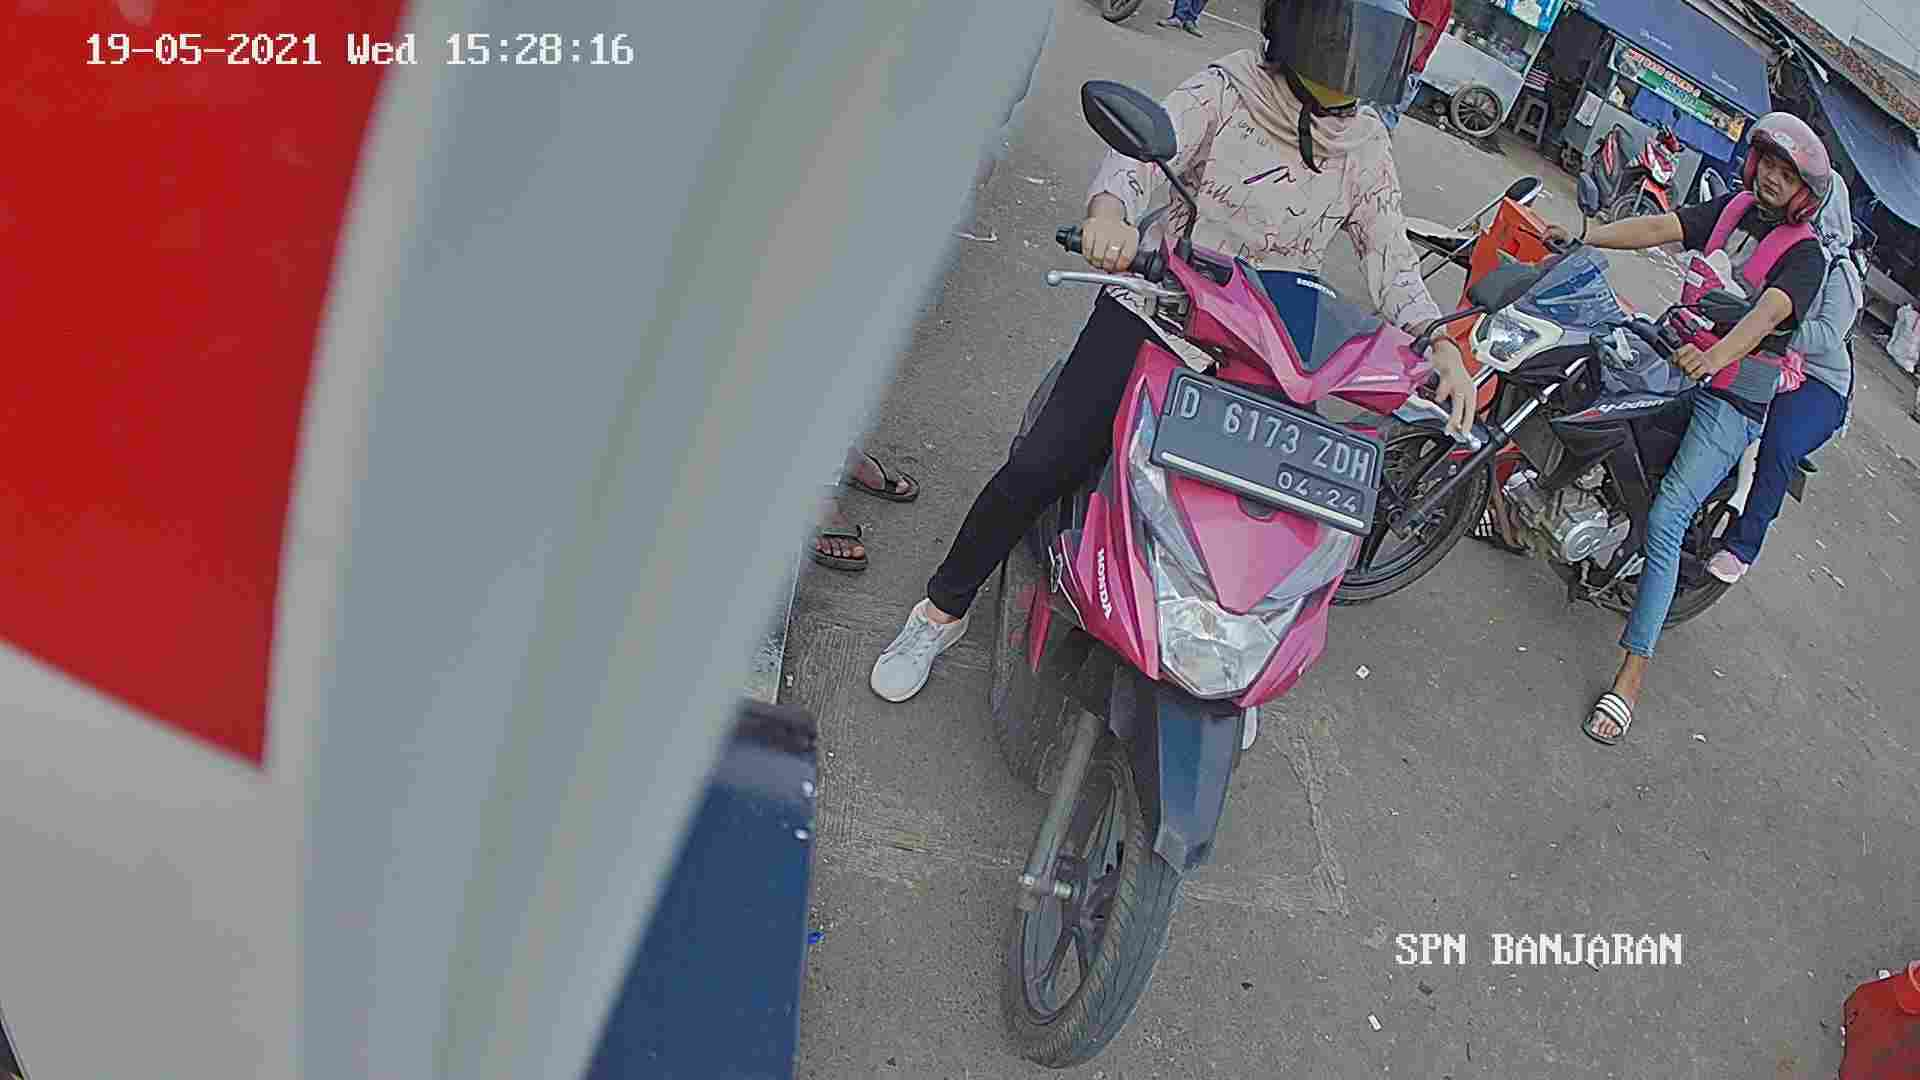motor: (1044, 183, 1399, 1080), (1449, 219, 1817, 698)
